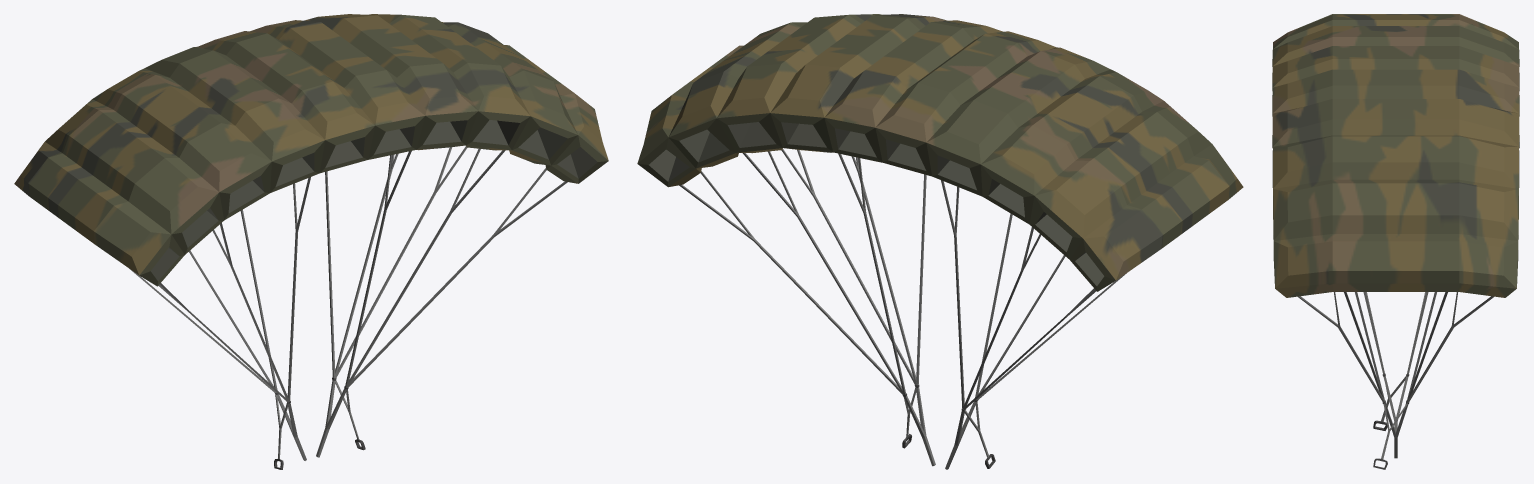
File: parachute.glb
3 renders of one model, left to right at view 1: azimuth 30°, elevation 25°; view 2: azimuth 150°, elevation 25°; view 3: azimuth 270°, elevation 25°, orthographic. The views are drawn at different scales.
Visible parts, largest first — view 1: Parachute; view 2: Parachute; view 3: Parachute.
Part boxes in pixels (box(x1,y1,x2,y2)): Parachute: box(14, 14, 608, 469); Parachute: box(637, 14, 1243, 469); Parachute: box(1272, 14, 1519, 469).
Size of the model in its own units: 3.39 by 2.61 by 1.5.
Materials: 1 (1 with a texture image).
